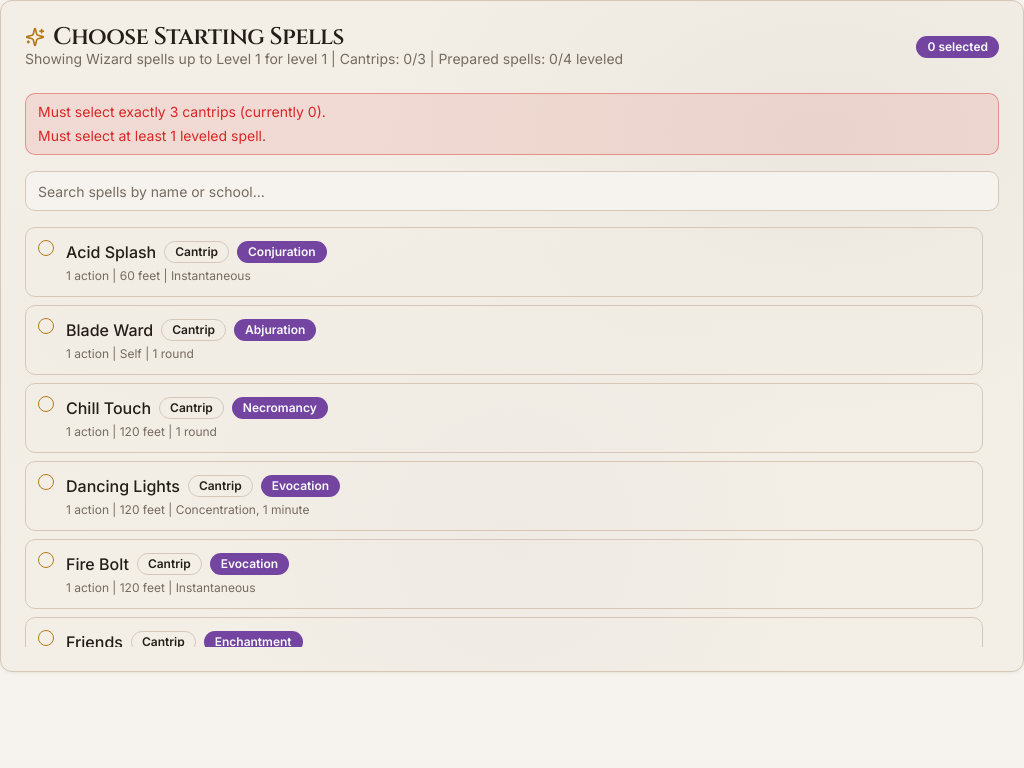
SpellSelectionStep › search input filters spells by name
Type "Acid Splash" into the field with placeholder "Search spells by name or school..." at (512,191), box [25,171,999,211]
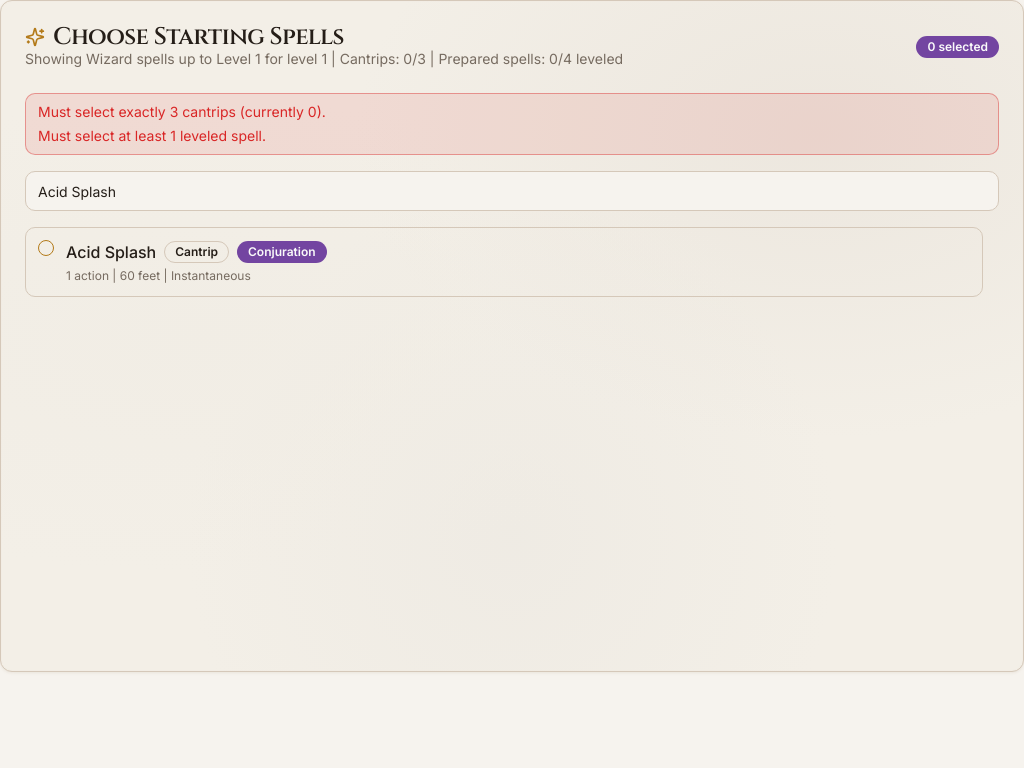
Expected: the text "Acid Splash" is shown, [66,240,156,264]
Now the text "Blade Ward" is gone
